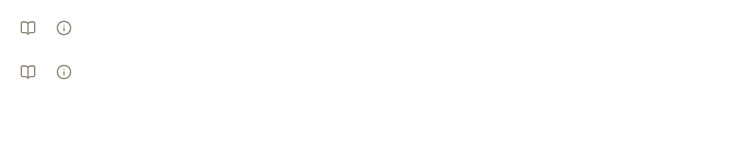
Test: AnswerFooter › keeps adjacent messages independent with unique controls
The width and height of the screenshot is (749, 160).
Click the 1st button named "查看回答详情" at (64, 28), box [48,12,80,44]
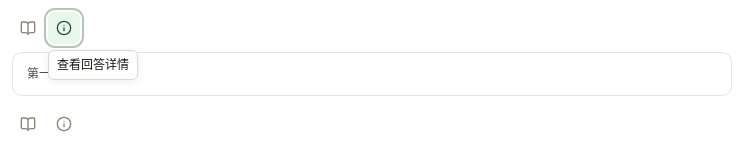
Expected: the text "第一轮" is shown, [12,52,732,96]
